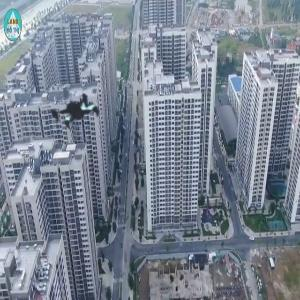drone: (29, 64, 124, 159)
